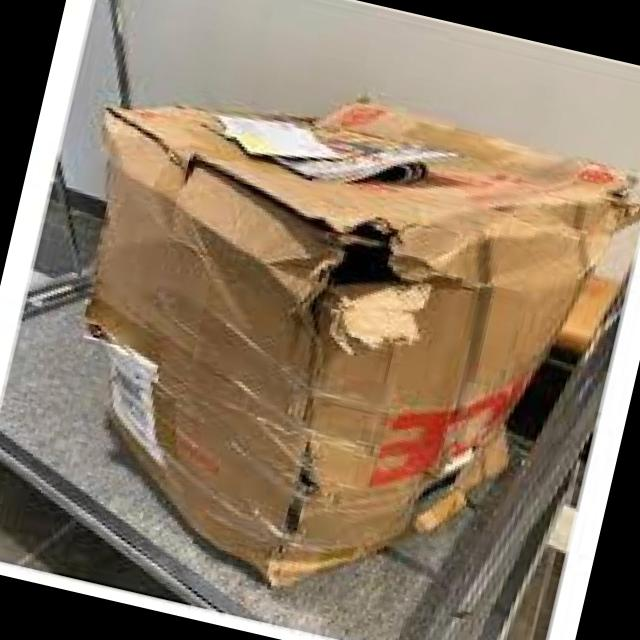box: (36, 108, 616, 576)
opened: (39, 109, 616, 326)
